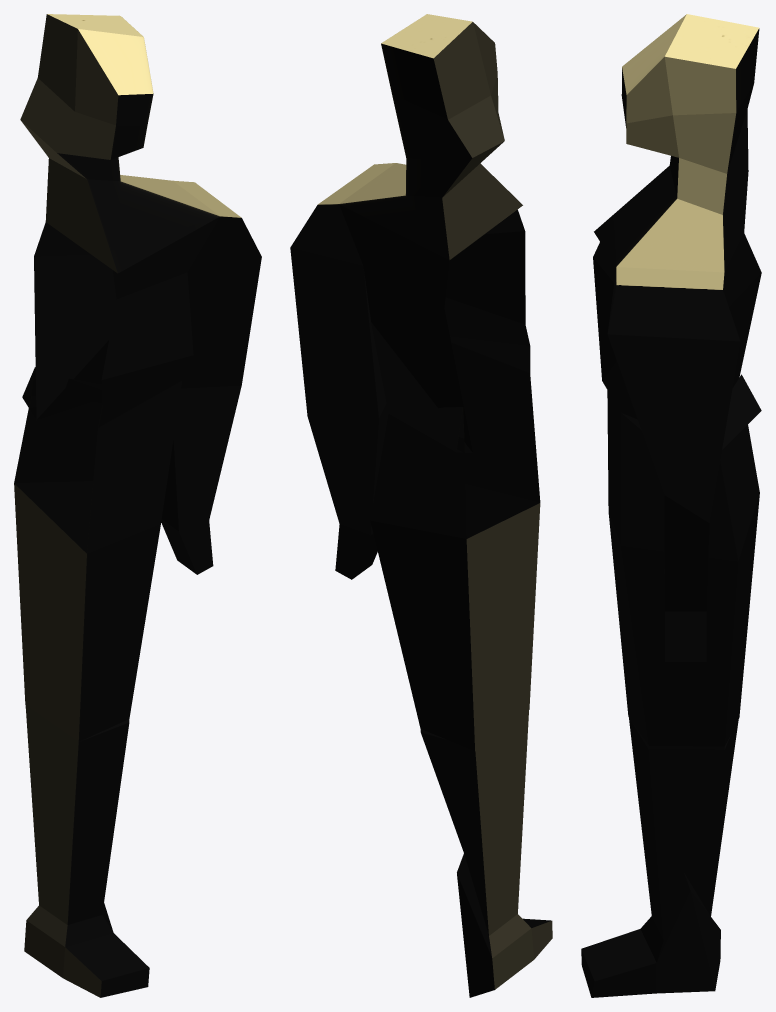
The model's file is microsoft test.glb.
3 renders of one model, left to right at view 1: azimuth 30°, elevation 25°; view 2: azimuth 150°, elevation 25°; view 3: azimuth 270°, elevation 25°, orthographic. The views are drawn at different scales.
Visible parts, largest first — view 1: node_id45; view 2: node_id45; view 3: node_id45.
Part boxes in pixels (x1,y1,x2,y2): node_id45: [14, 14, 261, 997]; node_id45: [290, 14, 552, 997]; node_id45: [581, 14, 761, 997].
Bounding box in the file's own units: 0.0846 × 0.3987 × 0.0664.
Materials: 1 (1 with a texture image).
